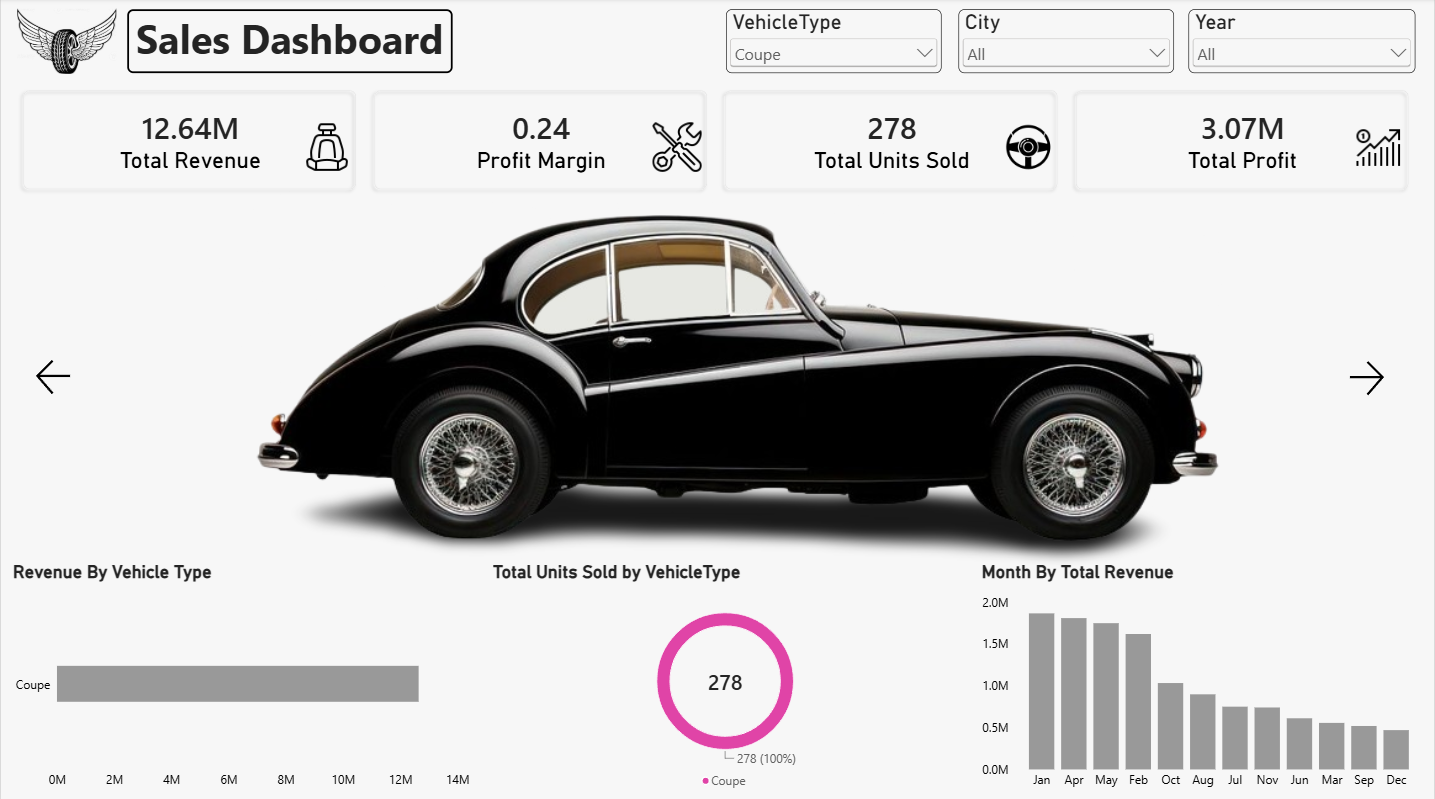

What the dashboard file says about the page in this screenshot:
{"tool":"powerbi","page":{"name":"Coupe","canvas":[1920,1080],"ordinal":2},"visuals":[{"type":"image","box":[21.4,0,132.6,115.5],"z":0},{"type":"textbox","box":[168.9,15,436.2,85.5],"z":1000},{"type":"cardVisual","fields":{"Data":["vehicle_sales_dashboard_dataset.Total Revenue","vehicle_sales_dashboard_dataset.Profit Margin","vehicle_sales_dashboard_dataset.Total Units Sold","vehicle_sales_dashboard_dataset.Total Profit"]},"box":[21.4,115.5,1873,149.7],"z":2000},{"type":"barChart","title":"Revenue By Vehicle Type","fields":{"Category":["vehicle_sales_dashboard_dataset.VehicleType"],"Y":["Sum(vehicle_sales_dashboard_dataset.Revenue)"]},"box":[0,739.8,643.6,340],"z":3000},{"type":"donutChart","fields":{"Category":["vehicle_sales_dashboard_dataset.VehicleType"],"Y":["vehicle_sales_dashboard_dataset.Total Units Sold"]},"box":[643.6,739.8,654.3,340],"z":4000},{"type":"columnChart","title":"Month By Total Revenue","fields":{"Category":["vehicle_sales_dashboard_dataset.Month"],"Y":["vehicle_sales_dashboard_dataset.Total Revenue"]},"box":[1297.8,739.8,622.2,340],"z":5000},{"type":"slicer","fields":{"Values":["vehicle_sales_dashboard_dataset.Year"]},"box":[1590.7,15,303.6,85.5],"z":6000},{"type":"slicer","fields":{"Values":["vehicle_sales_dashboard_dataset.City"]},"box":[1282.9,15,288.6,85.5],"z":7000},{"type":"actionButton","box":[20.6,477.5,100.9,61.7],"z":8000},{"type":"image","box":[230.5,257.3,1512.9,502.2],"z":9000},{"type":"slicer","fields":{"Values":["vehicle_sales_dashboard_dataset.VehicleType"]},"box":[971.5,14.4,288.6,85.5],"z":9001},{"type":"actionButton","box":[1778.9,476.8,100.5,64.1],"z":9002}]}

Visuals, with their boxes in screenshot pixels (x1, y1, x2, y2), scaled from the page's 1920x1080 canvas onto the 1435x799 screenshot:
image: [left=16, top=0, right=115, bottom=85]
textbox: [left=126, top=11, right=452, bottom=74]
cardVisual - vehicle_sales_dashboard_dataset.Total Revenue x vehicle_sales_dashboard_dataset.Profit Margin: [left=16, top=85, right=1416, bottom=196]
"Revenue By Vehicle Type" barChart: [left=0, top=547, right=481, bottom=798]
donutChart - vehicle_sales_dashboard_dataset.VehicleType x vehicle_sales_dashboard_dataset.Total Units Sold: [left=481, top=547, right=970, bottom=798]
"Month By Total Revenue" columnChart: [left=970, top=547, right=1434, bottom=798]
slicer - vehicle_sales_dashboard_dataset.Year: [left=1189, top=11, right=1416, bottom=74]
slicer - vehicle_sales_dashboard_dataset.City: [left=959, top=11, right=1175, bottom=74]
actionButton: [left=15, top=353, right=91, bottom=399]
image: [left=172, top=190, right=1303, bottom=562]
slicer - vehicle_sales_dashboard_dataset.VehicleType: [left=726, top=11, right=942, bottom=74]
actionButton: [left=1330, top=353, right=1405, bottom=400]
